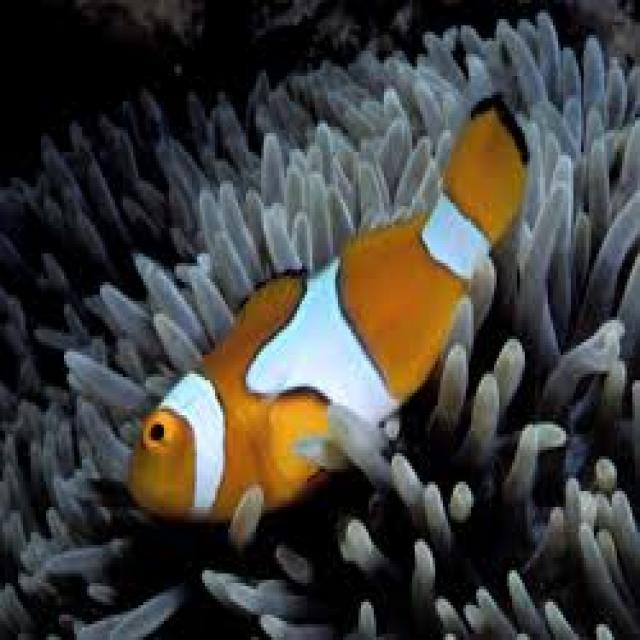ClownFish: (126, 93, 533, 526)
